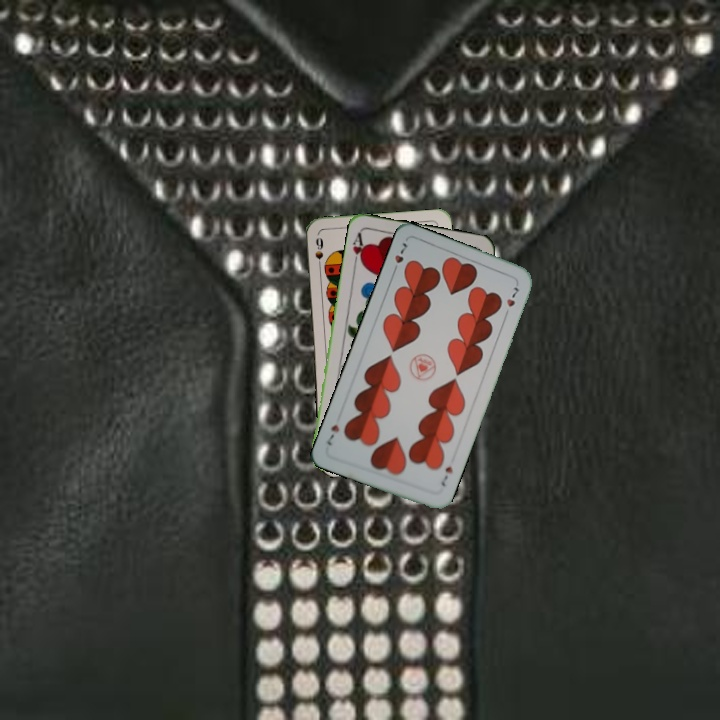H7: (388, 238, 412, 276), (436, 462, 455, 489)
HA: (348, 228, 368, 269)
S9: (311, 233, 326, 272)
